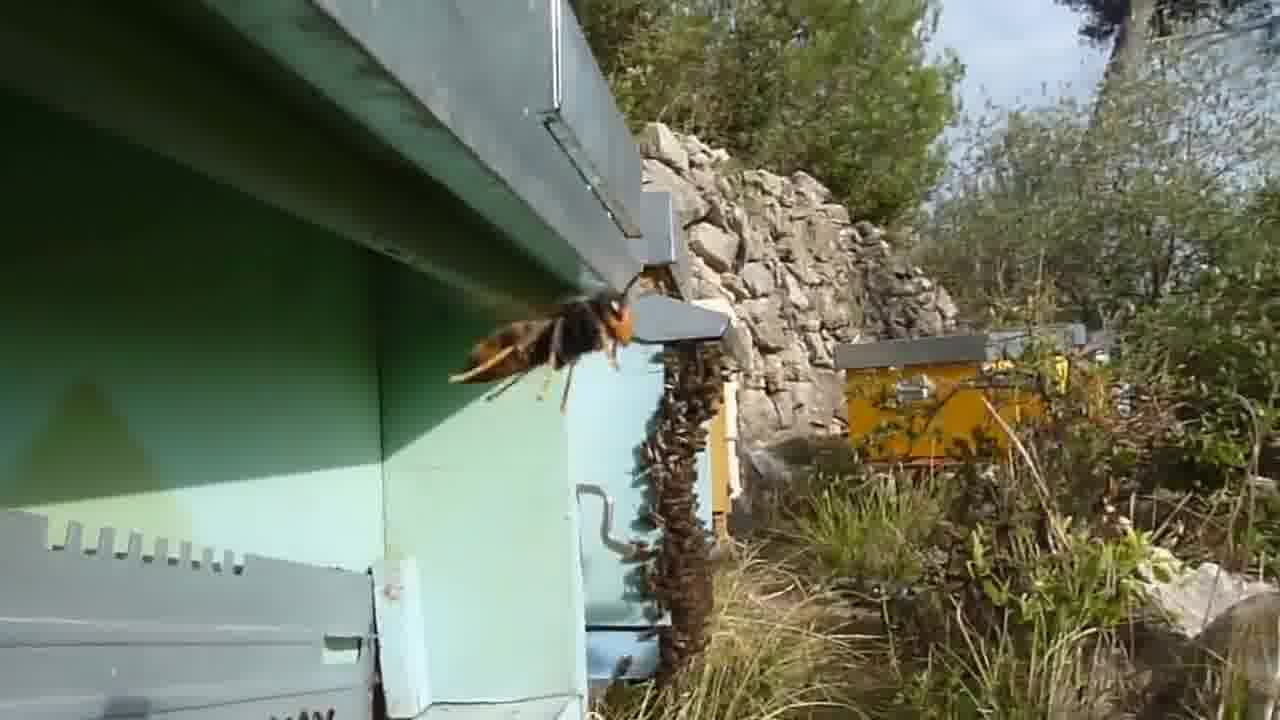bee: (646, 590, 727, 678), (647, 503, 720, 586), (648, 413, 710, 497), (659, 347, 718, 410)
hornet: (449, 270, 651, 403)
